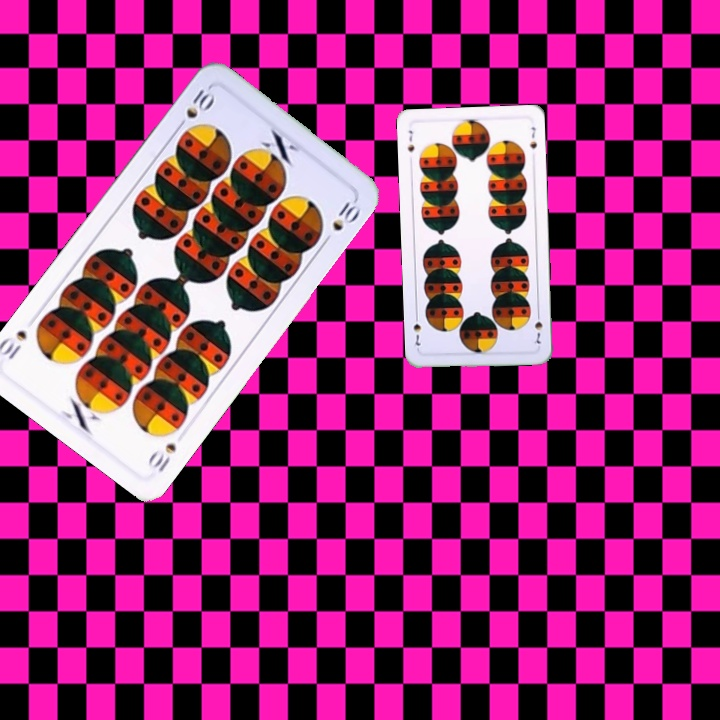S10: (172, 83, 218, 133), (144, 438, 179, 475)
S7: (530, 308, 545, 346), (404, 126, 417, 155)
